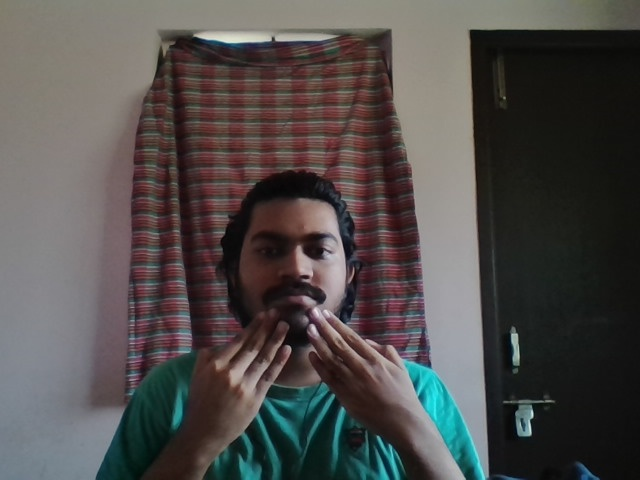ThankYou: (190, 308, 423, 447)
